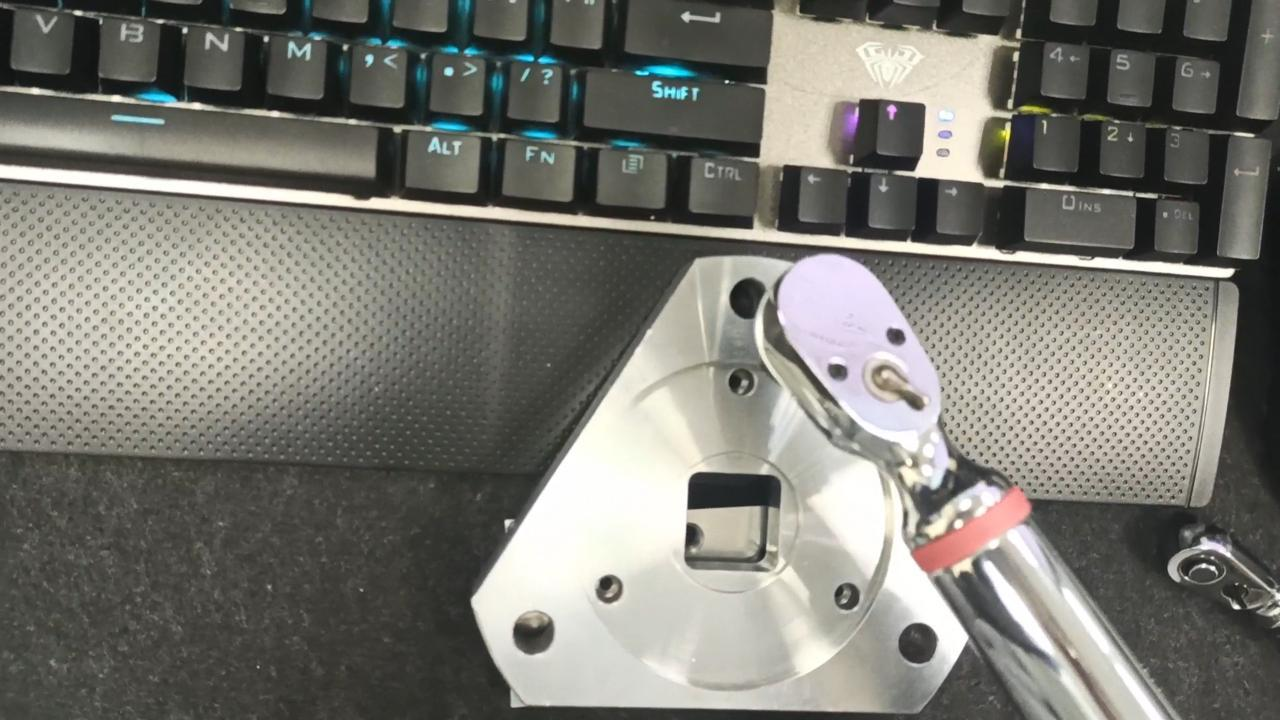Tool: (758, 256, 990, 541), (1168, 513, 1279, 633)
hole: (501, 608, 564, 665), (720, 279, 773, 328), (893, 622, 942, 670), (722, 367, 769, 410), (587, 572, 625, 616), (830, 582, 865, 618)
